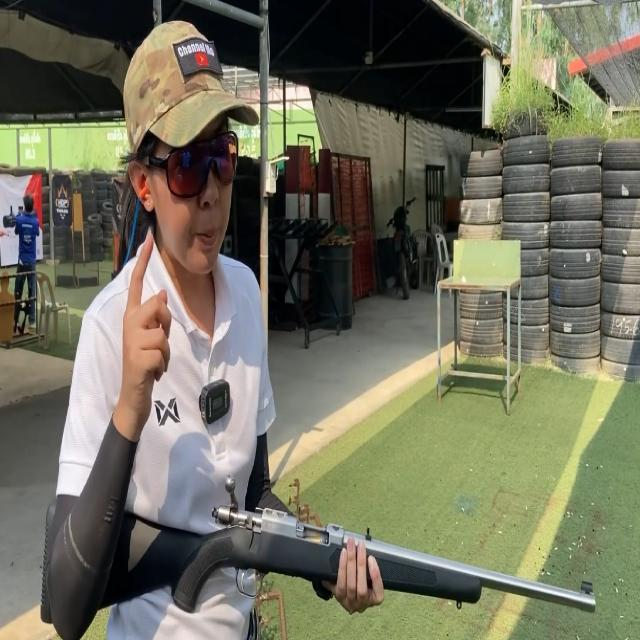rifle: (34, 456, 605, 632)
